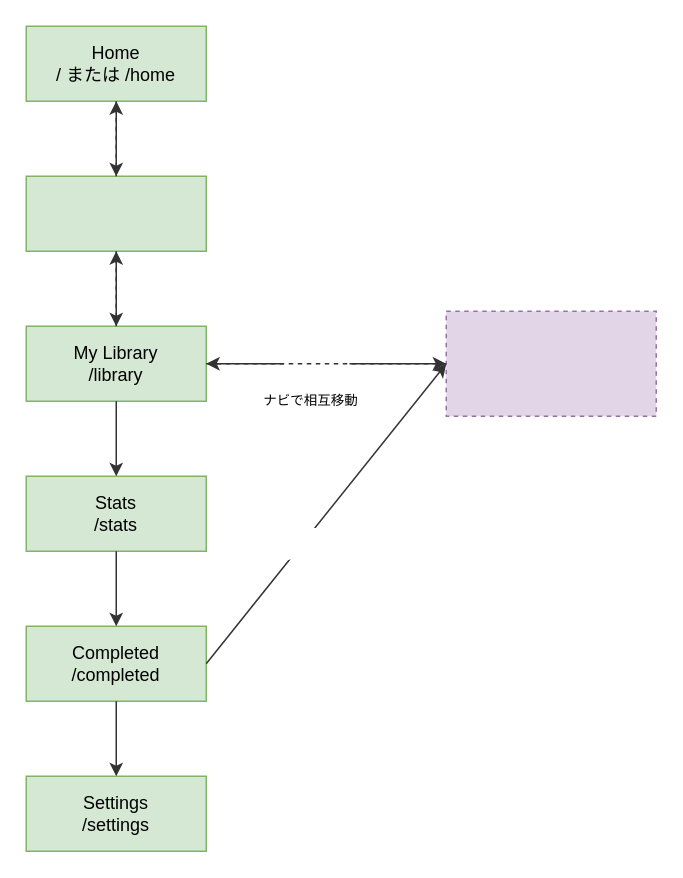
The diagram is 683 pixels wide and 878 high, and some of its shapes have lost their labels. Each missing label, with the box of its shape:
Reading Time /reading: (25, 175, 206, 251)
本詳細 /library?book=id: (445, 310, 656, 416)
